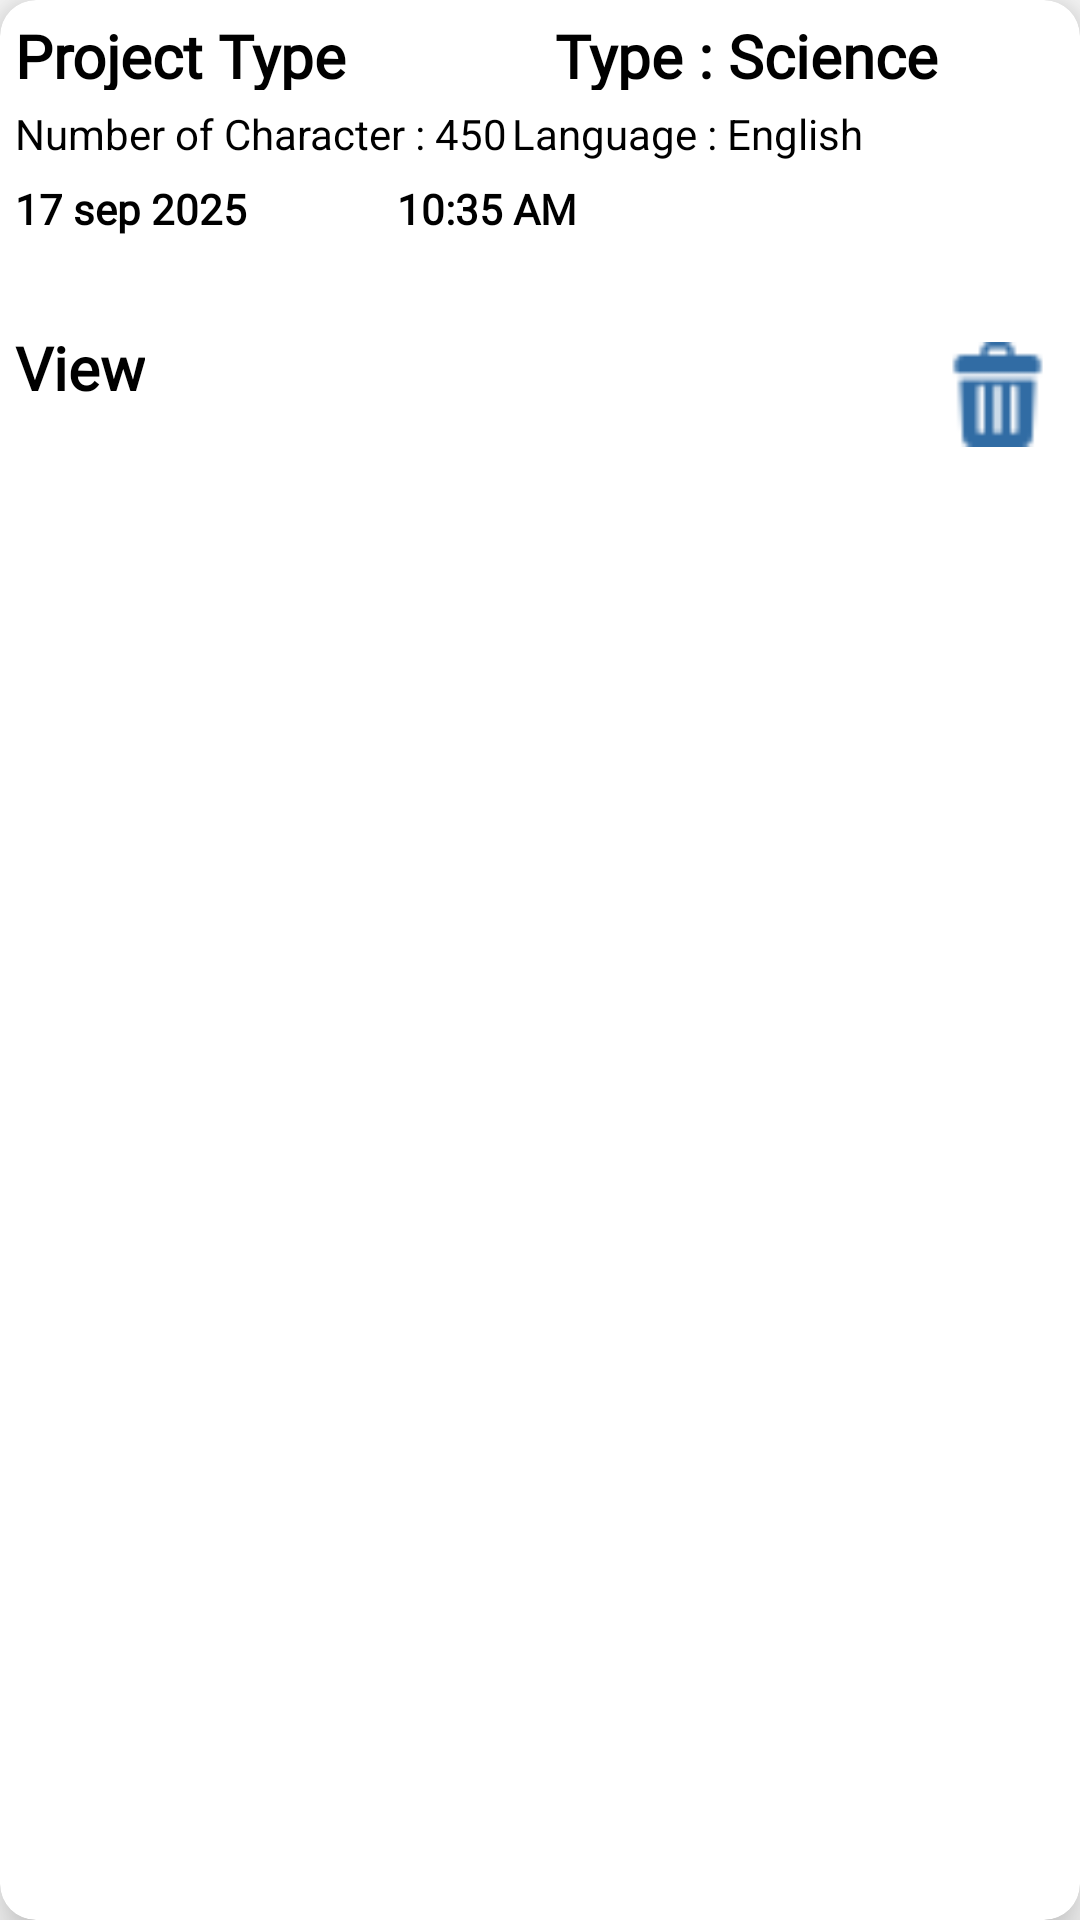

Named icons in this screenshot (1080w x 1920h) and their bounding boxes, bbox(x1, y1, x2, y2):
trash: bbox(952, 342, 1043, 447)
